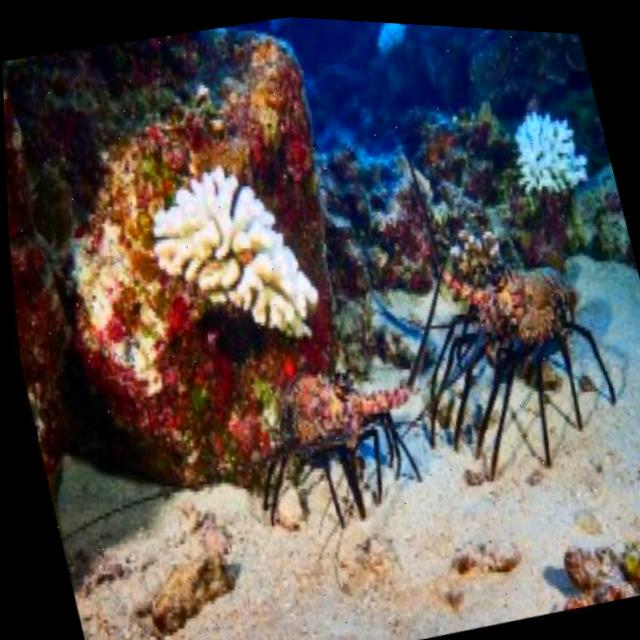Bleached Coral: (108, 139, 356, 386), (476, 88, 621, 237)
